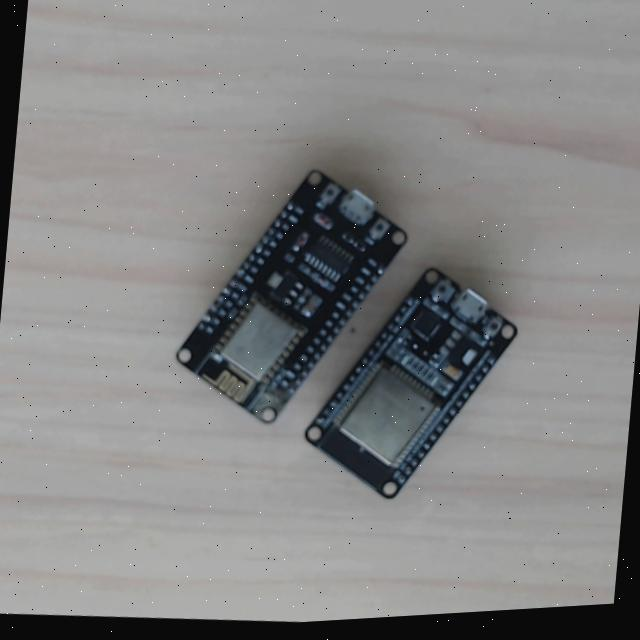ESP32-DevKit: (300, 259, 521, 501)
ESP8266-NodeMCU: (171, 159, 413, 427)
